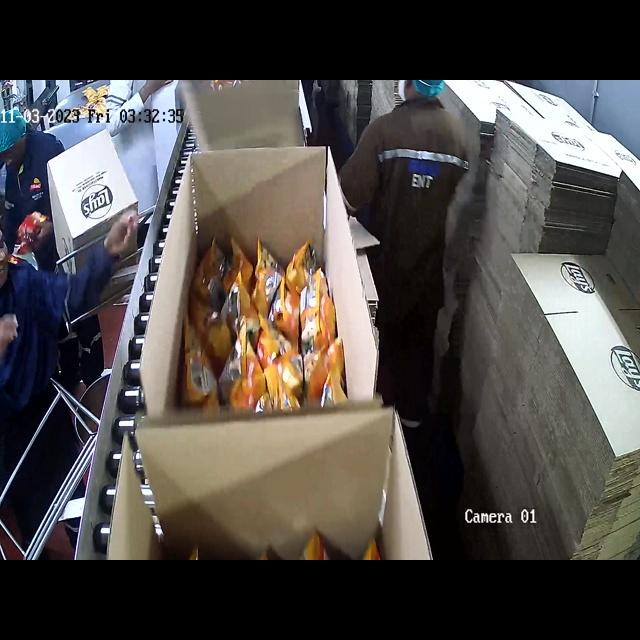cheese: (189, 231, 348, 421), (161, 509, 421, 560)
